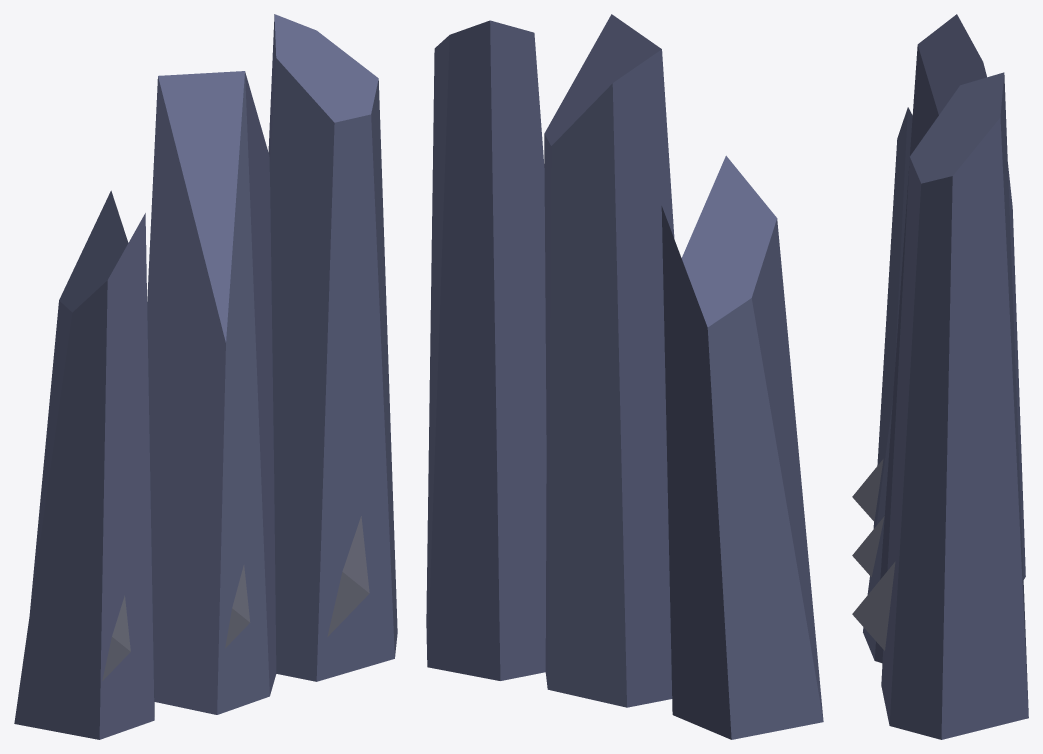
File: map-boundaries-v5__highland_10.glb
3 views of the same model, side by side, from view 1: azimuth 30°, elevation 25°; view 2: azimuth 150°, elevation 25°; view 3: azimuth 270°, elevation 25° (orthographic). The views are drawn at different scales.
Visible parts, largest first — view 1: highland_10; view 2: highland_10; view 3: highland_10.
Part boxes in pixels (<box>): highland_10: <box>14,14,397,739</box>; highland_10: <box>426,14,823,739</box>; highland_10: <box>852,14,1028,739</box>.
Bounding box in the file's own units: 1.59 × 2.48 × 0.637.
